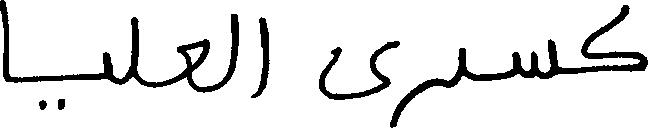X: (320, 36, 398, 127), (582, 0, 647, 77), (513, 34, 558, 83), (176, 34, 208, 97), (400, 74, 432, 119), (258, 12, 269, 100), (0, 0, 11, 86), (227, 9, 237, 86), (453, 43, 468, 91), (130, 12, 138, 86), (101, 47, 113, 87)
